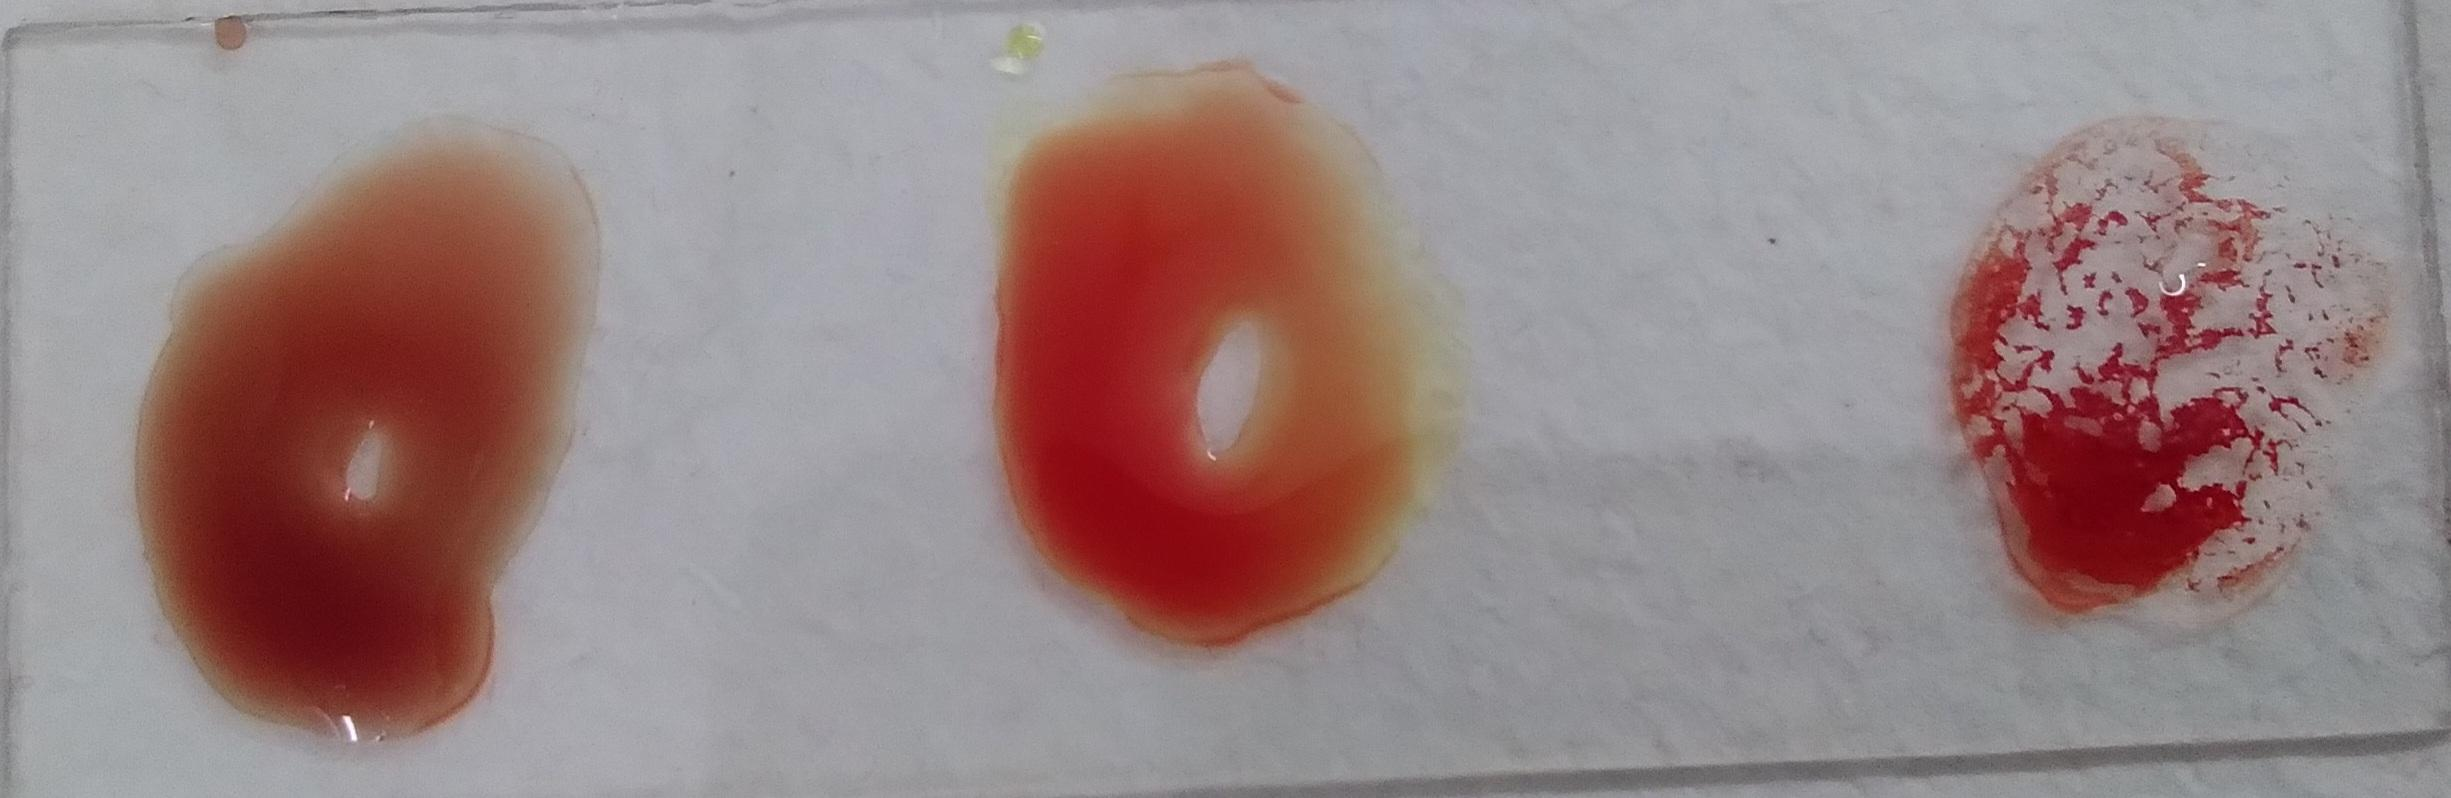D: (73, 162, 503, 676)
